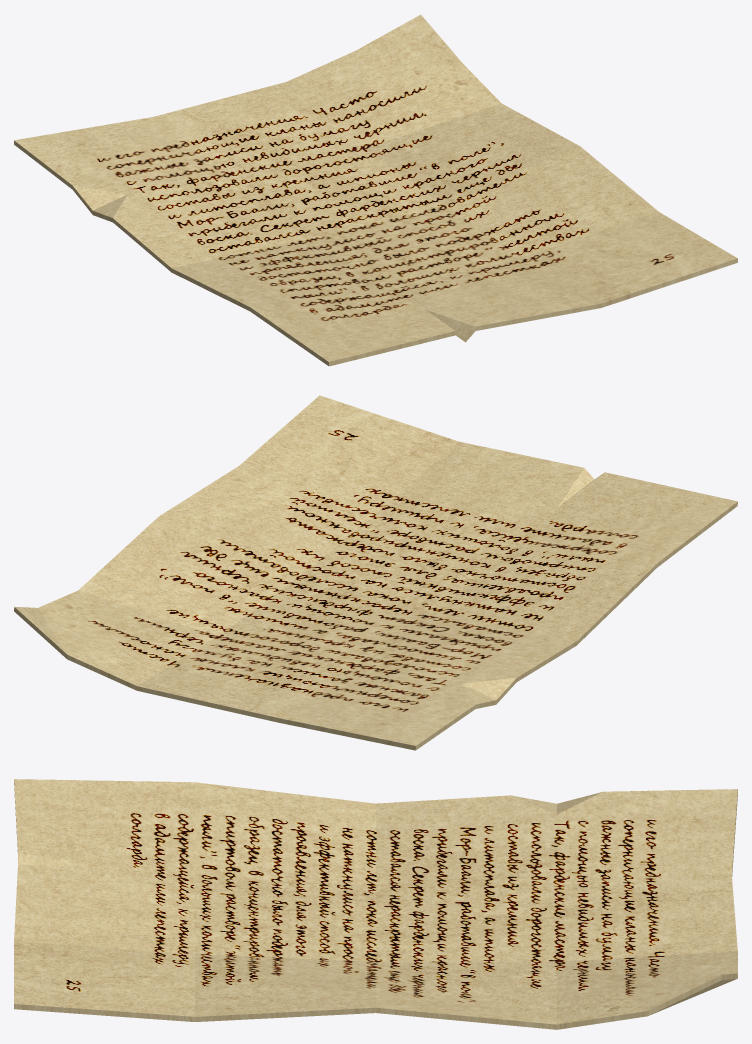
File: Invisible Ink (a) v0-0.fbx
3 renders of one model, top to bottom at view 1: azimuth 30°, elevation 25°; view 2: azimuth 150°, elevation 25°; view 3: azimuth 270°, elevation 25°, orthographic. The views are drawn at different scales.
Parts seen in each view (by area): view 1: Plane; view 2: Plane; view 3: Plane.
Boxes of the visible parts, left/top/right/bottom form: Plane: left=14, top=14, right=737, bottom=366; Plane: left=14, top=395, right=737, bottom=750; Plane: left=14, top=779, right=737, bottom=1029.
Size of the model in its own units: 45.12 by 5.82 by 60.14.
